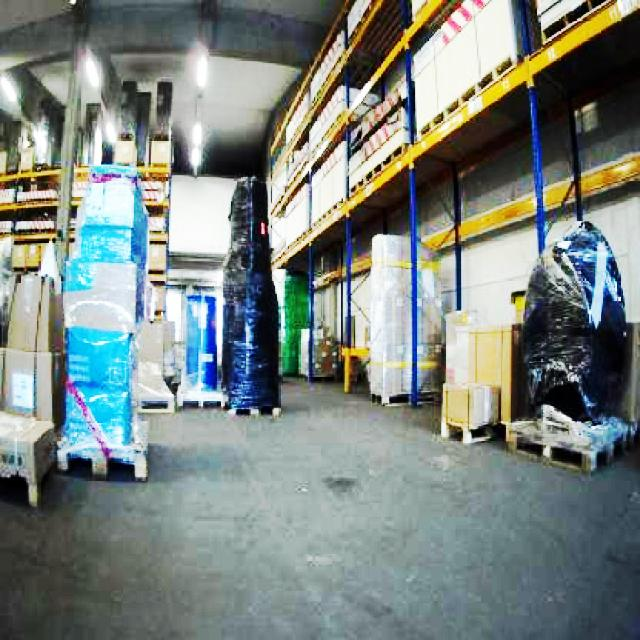ground: (0, 368, 638, 638)
pallet: (263, 0, 638, 272), (0, 157, 168, 506), (440, 317, 638, 472), (0, 162, 171, 322), (0, 245, 65, 508), (500, 406, 632, 472), (0, 403, 57, 508), (438, 380, 498, 443)
